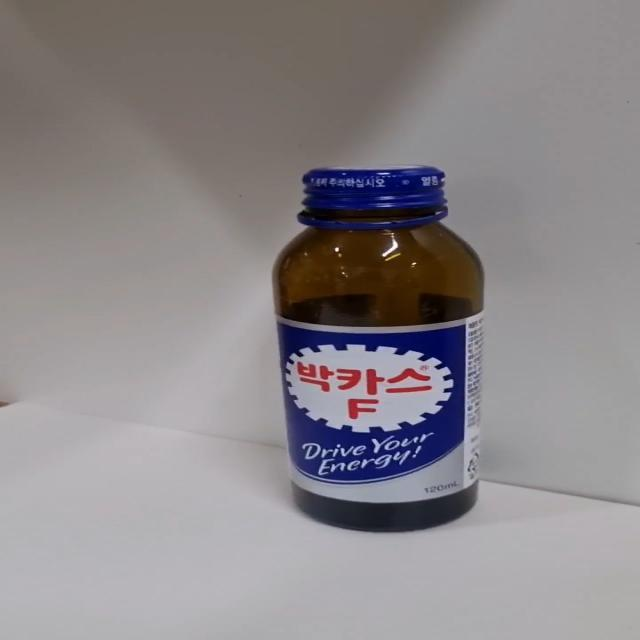Glass: (270, 166, 487, 534)
